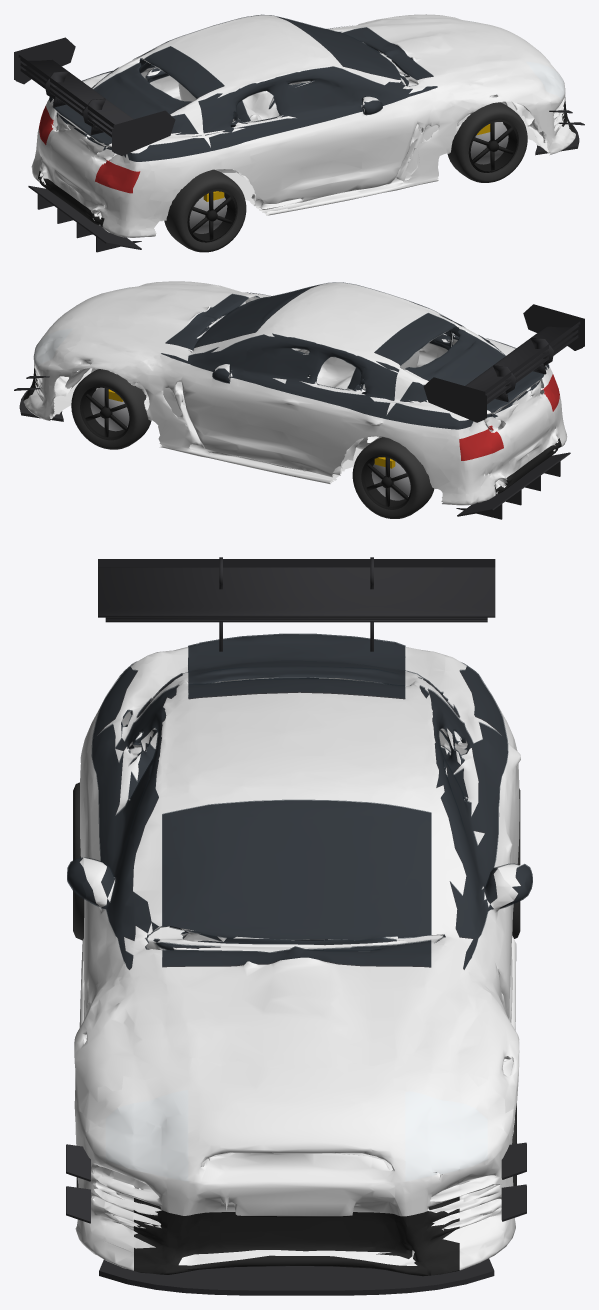
Rendered from nissan_gt_r_nismo.glb.
The picture shows the model from 3 angles, top to bottom: view 1: azimuth 30°, elevation 25°; view 2: azimuth 150°, elevation 25°; view 3: azimuth 270°, elevation 25°; orthographic projection. The views are drawn at different scales.
Parts seen in each view (by area): view 1: body, cabin, bumper_rear, wing_rear_up3, bumper_front, wheel_rr_spin, wheel_fr_spin, diffuser, wing_rear, wing_rear_up2; view 2: body, cabin, bumper_rear, wing_rear_up3, bumper_front, wheel_rl_spin, wheel_fl_spin, diffuser, wing_rear, wing_rear_up2; view 3: body, bumper_front, cabin, wing_rear_up3, bumper_rear, splitter_up, splitter, canards, wing_rear, wing_rear_up2, wheel_rr_spin.
Part boxes in pixels (x1,y1,x2,y2): body: (54, 14, 539, 233); cabin: (49, 14, 437, 161); bumper_rear: (31, 97, 161, 237); wing_rear_up3: (14, 37, 175, 155); bumper_front: (438, 15, 575, 155); wheel_rr_spin: (164, 169, 246, 252); wheel_fr_spin: (447, 102, 527, 182); diffuser: (28, 186, 141, 252); wing_rear: (16, 57, 113, 151); wing_rear_up2: (16, 50, 113, 145); body: (58, 281, 543, 497); cabin: (161, 282, 549, 429); bumper_rear: (438, 364, 567, 505); wing_rear_up3: (423, 304, 584, 422); bumper_front: (23, 282, 160, 420); wheel_rl_spin: (352, 437, 434, 518); wheel_fl_spin: (71, 369, 151, 449); diffuser: (456, 452, 570, 519); wing_rear: (485, 323, 582, 418); wing_rear_up2: (485, 317, 582, 416); body: (74, 658, 520, 1145); bumper_front: (75, 1058, 515, 1276); cabin: (67, 633, 532, 969); wing_rear_up3: (98, 557, 495, 651); bumper_rear: (120, 634, 479, 755); splitter_up: (99, 1258, 494, 1295); splitter: (106, 1260, 487, 1285); canards: (66, 1142, 526, 1223); wing_rear: (105, 619, 487, 622); wing_rear_up2: (105, 617, 487, 638); wheel_rr_spin: (73, 782, 84, 940).
Bounding box in the file's own units: 4.78 × 1.41 × 1.99.
